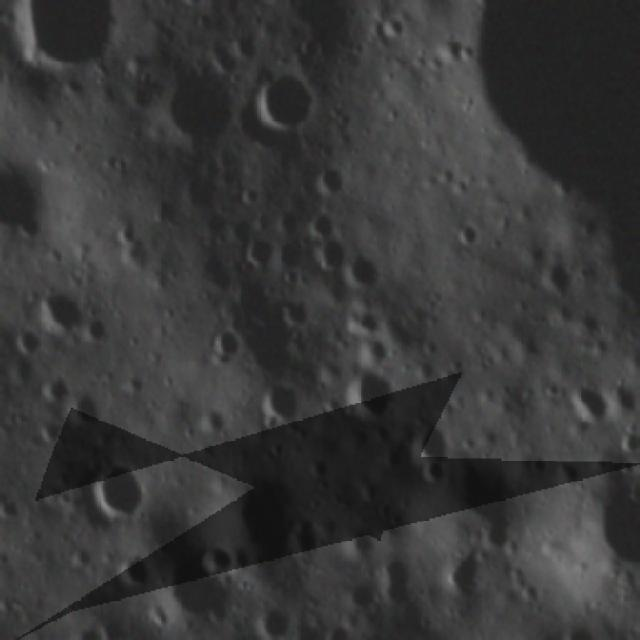crater: (9, 0, 129, 78), (0, 148, 60, 243), (161, 70, 239, 142), (257, 72, 326, 136), (96, 459, 146, 524), (344, 366, 390, 420), (376, 548, 421, 602), (573, 370, 607, 428), (418, 422, 450, 482), (38, 286, 82, 328), (263, 383, 300, 432), (208, 317, 242, 363), (70, 392, 108, 428), (119, 552, 155, 590), (348, 253, 382, 292), (241, 237, 273, 275), (542, 262, 578, 295), (316, 164, 350, 198), (576, 213, 612, 245), (378, 13, 412, 42), (225, 34, 261, 60), (308, 211, 340, 240), (39, 376, 72, 404), (262, 610, 292, 638), (12, 330, 45, 353), (88, 315, 110, 347), (0, 493, 22, 525), (322, 242, 344, 273), (620, 426, 640, 460), (462, 219, 480, 252), (321, 624, 356, 640), (532, 449, 550, 478), (552, 179, 577, 199)
